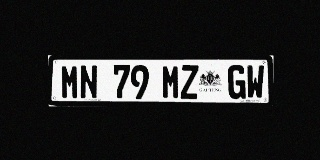7: (112, 65, 130, 99)
9: (131, 65, 149, 99)
G: (228, 65, 246, 99)
M: (61, 65, 79, 99), (162, 65, 180, 99)
N: (80, 65, 98, 99)
W: (246, 65, 264, 99)
Z: (180, 65, 198, 99)
